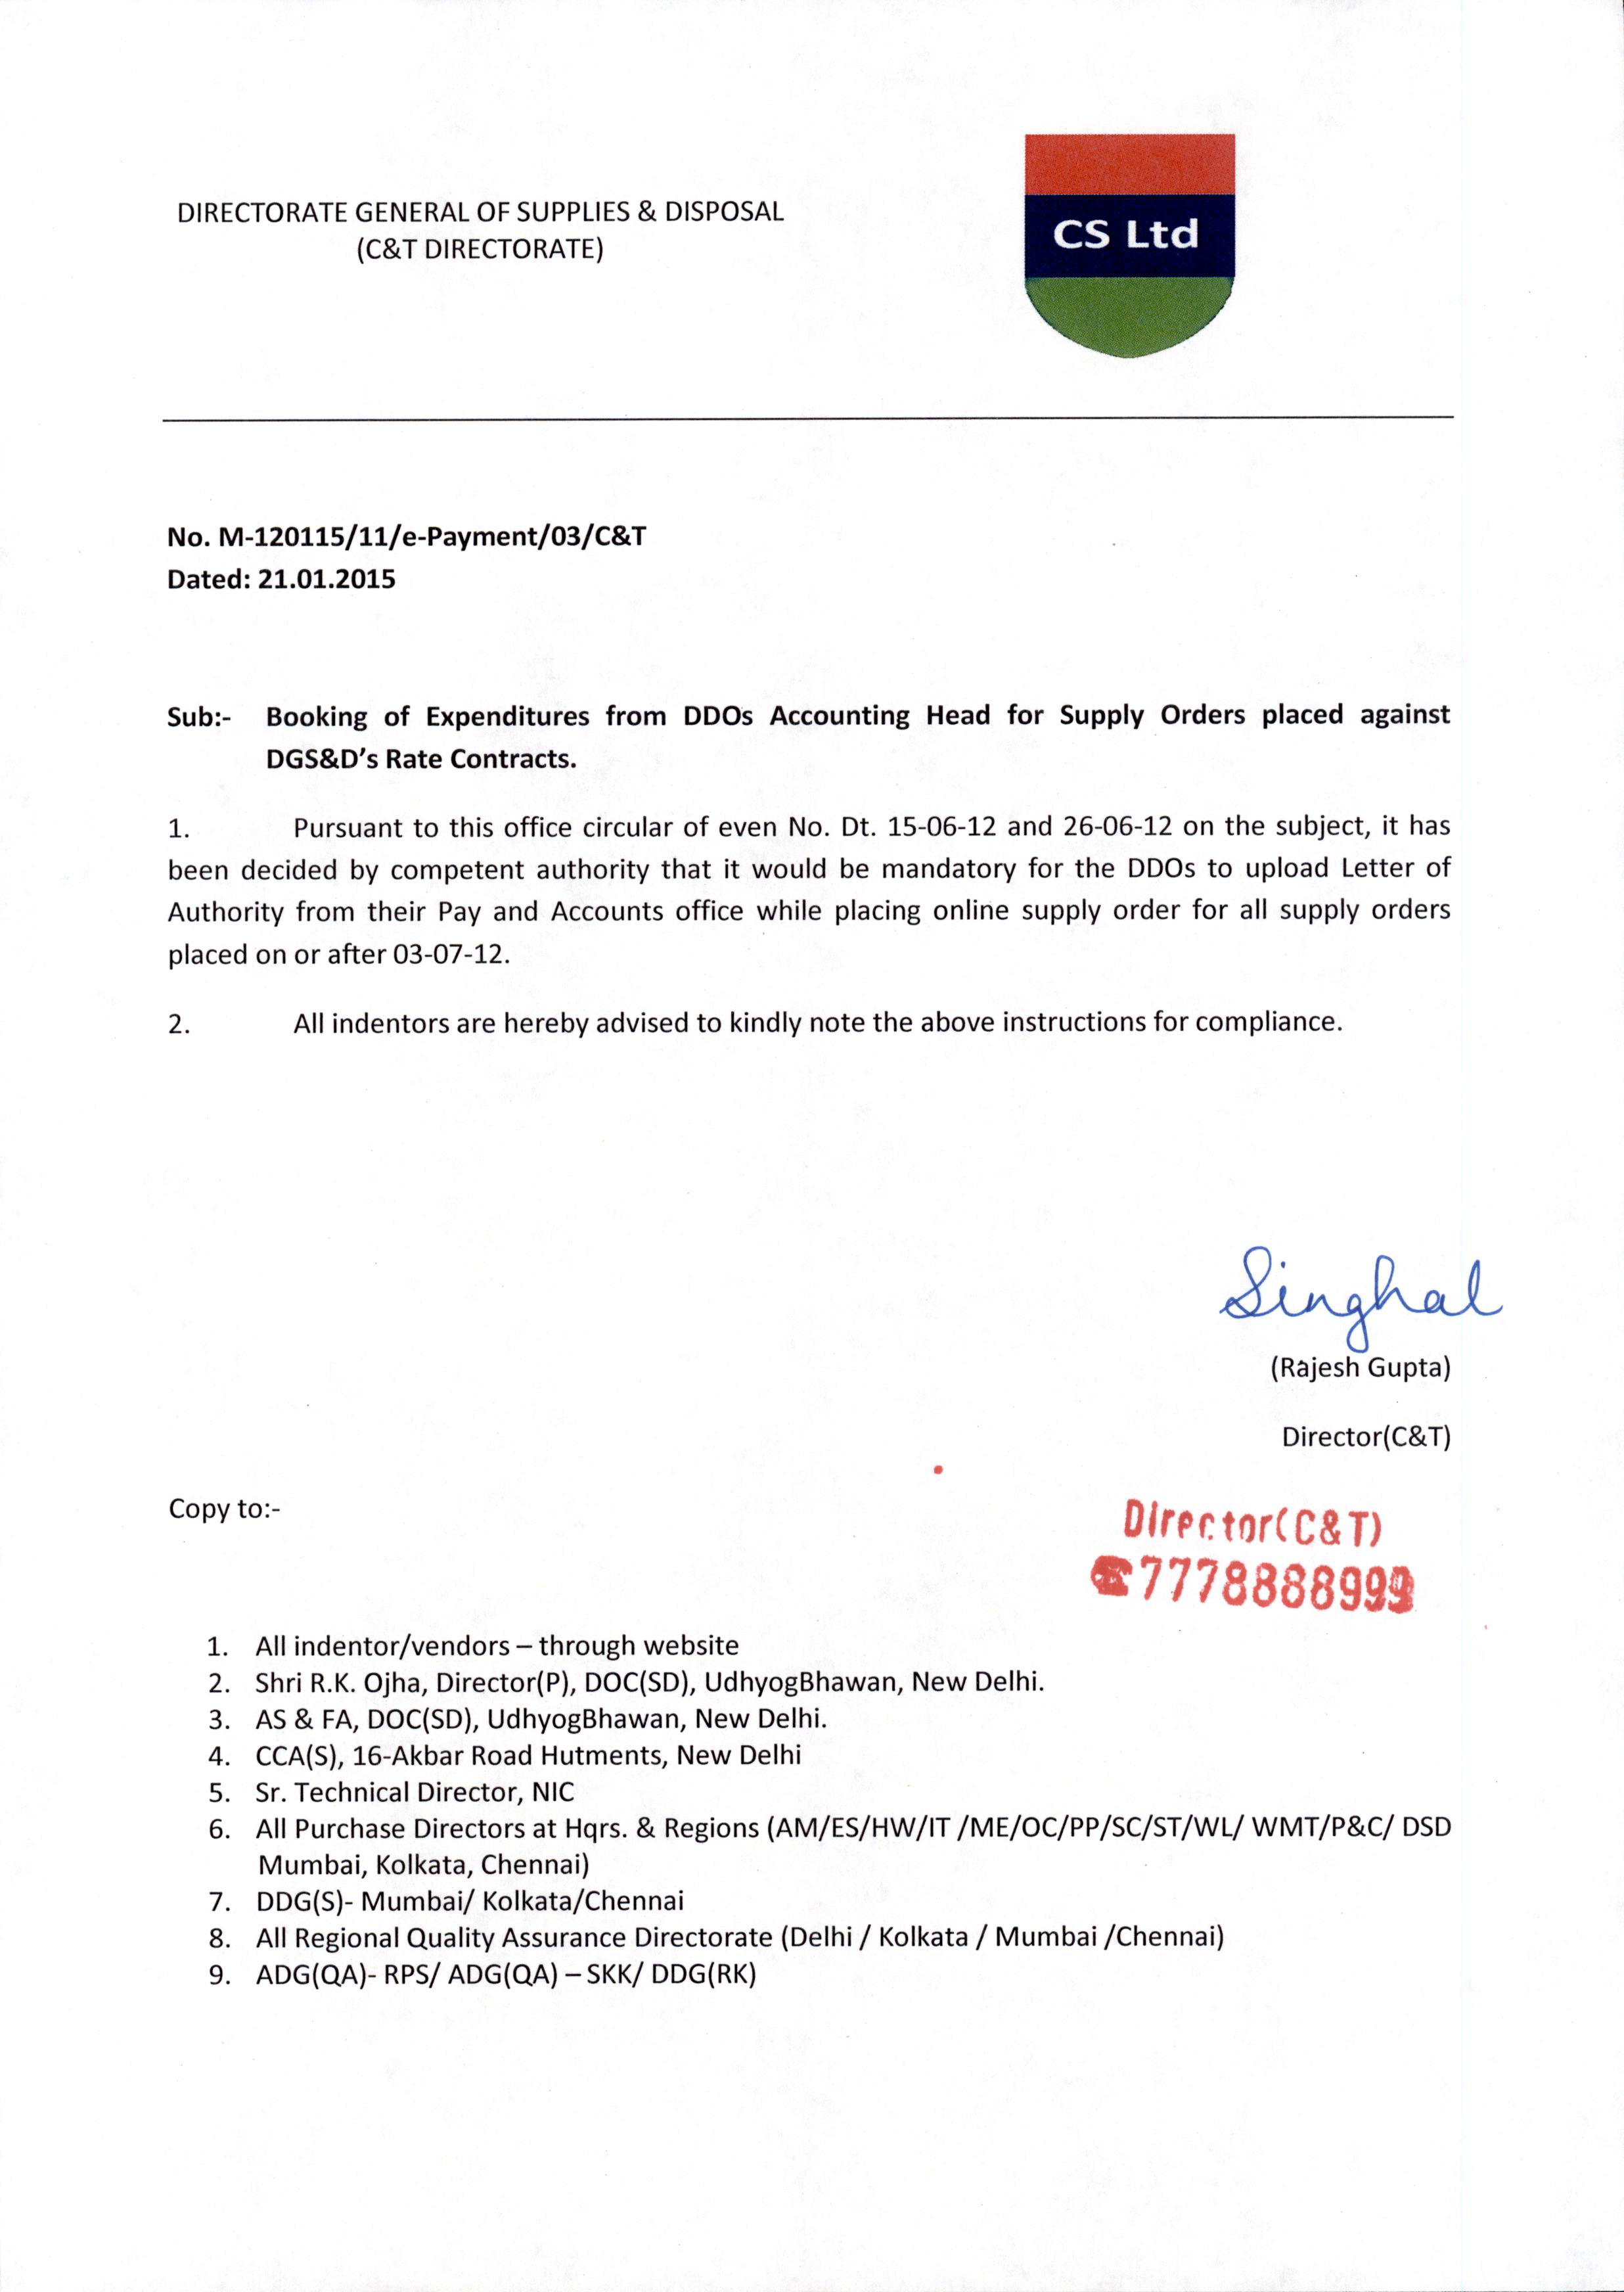Signature: (1206, 1237, 1504, 1357)
